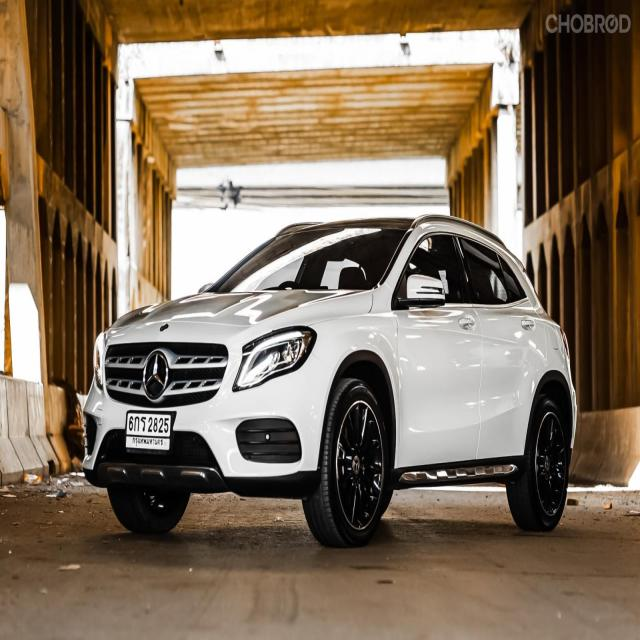license_plate: (126, 405, 172, 452)
